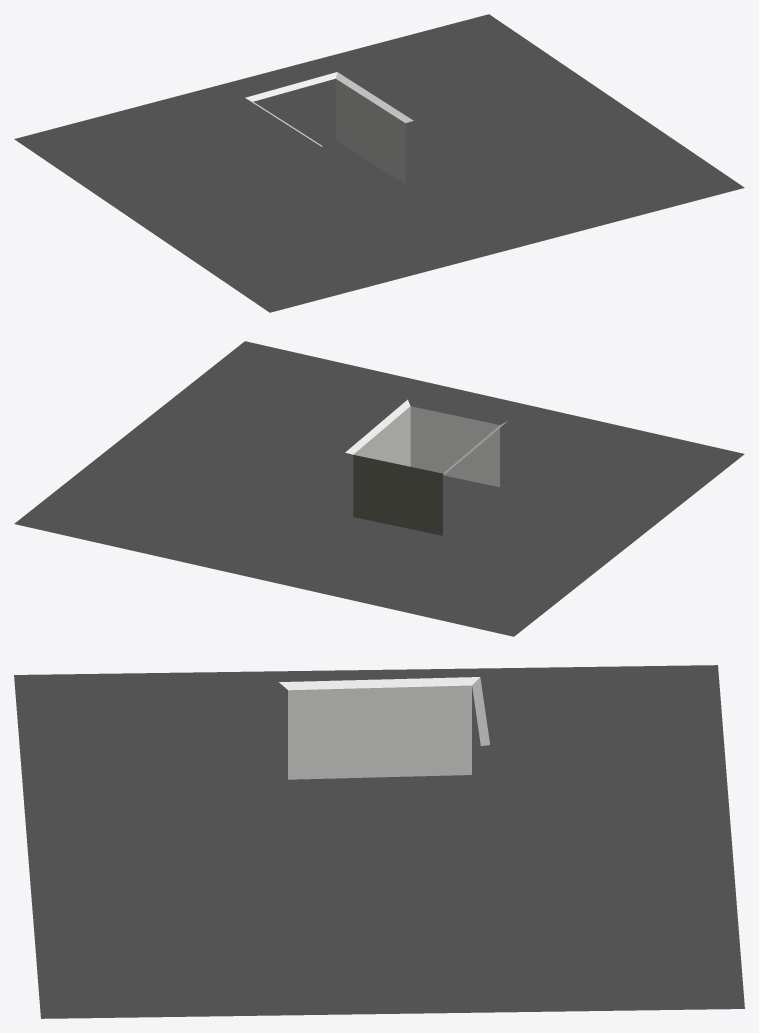
Rendered from market-court-chattanooga-tn.glb.
3 views of the same model, one above another, from view 1: azimuth 30°, elevation 25°; view 2: azimuth 150°, elevation 25°; view 3: azimuth 270°, elevation 25° (orthographic). The views are drawn at different scales.
Visible parts, largest first — view 1: LOD0; view 2: LOD0; view 3: LOD0.
Boxes of the visible parts, x1=… form: LOD0: x1=14, y1=14, x2=744, y2=312; LOD0: x1=14, y1=341, x2=744, y2=636; LOD0: x1=14, y1=665, x2=744, y2=1018.
Size of what is drawn, in the model's own units: 161 by 19.97 by 141.
Materials: 2 (2 with a texture image).
